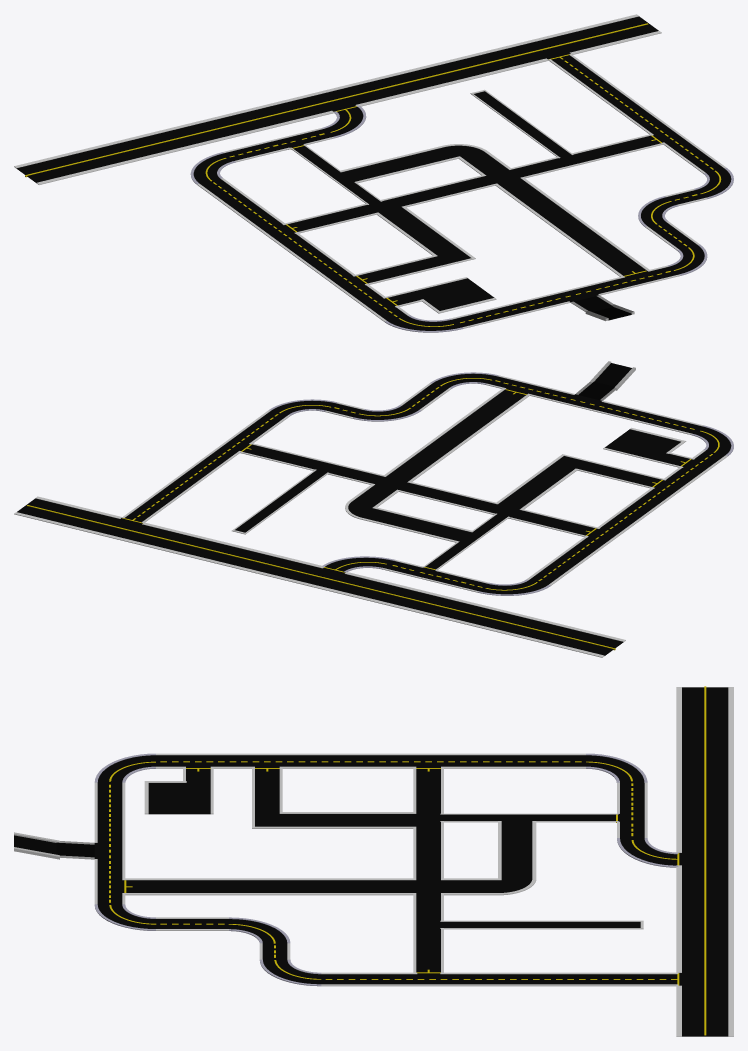
File: StreetsWithMesh.obj
3 renders of one model, top to bottom at view 1: azimuth 30°, elevation 25°; view 2: azimuth 150°, elevation 25°; view 3: azimuth 270°, elevation 25°, orthographic. The views are drawn at different scales.
Bounding box in the file's own units: 21.54 × 0.3475 × 18.75.
